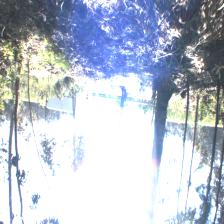trunktrack_idkeyframe: (151, 89, 175, 160), (8, 118, 14, 193), (14, 79, 20, 153)
